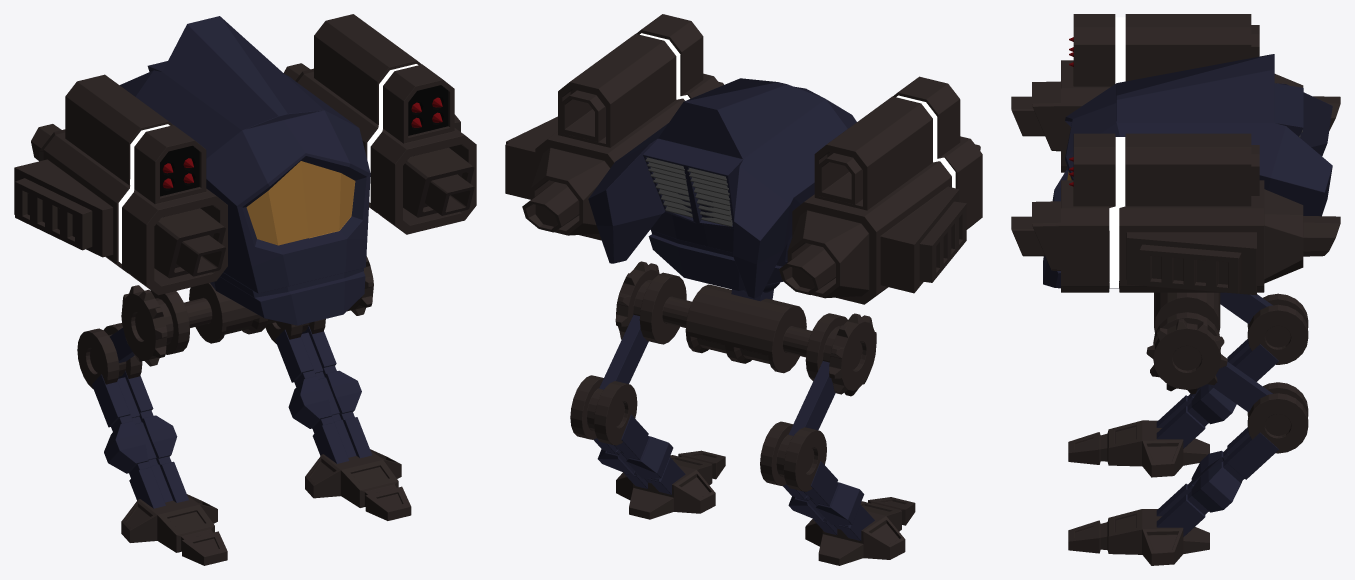
File: MechV5Beveled.fbx
3 renders of one model, left to right at view 1: azimuth 30°, elevation 25°; view 2: azimuth 150°, elevation 25°; view 3: azimuth 270°, elevation 25°, orthographic. The views are drawn at different scales.
Visible parts, largest first — view 1: Cockpit; view 2: Cockpit; view 3: Cockpit.
Boxes of the visible parts, bbox=[...] form: Cockpit: bbox=[14, 14, 476, 565]; Cockpit: bbox=[505, 14, 982, 565]; Cockpit: bbox=[1011, 14, 1340, 565].
Size of what is drawn, in the model's own units: 501 by 515 by 350.
